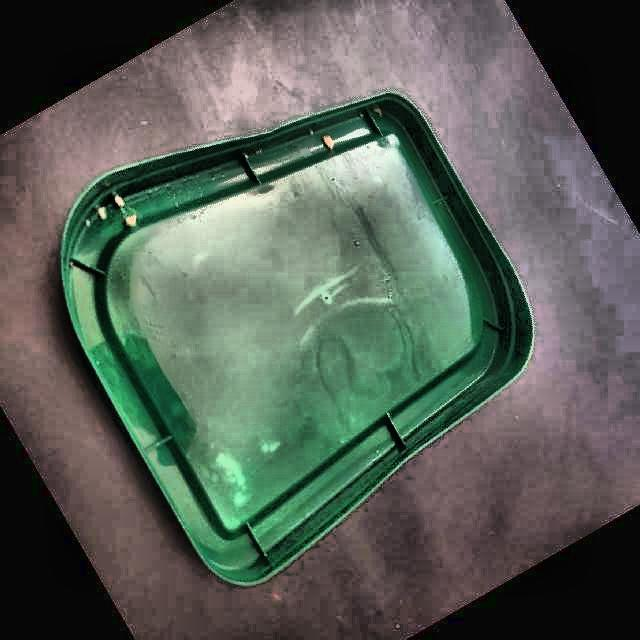plastic: (61, 94, 531, 583)
